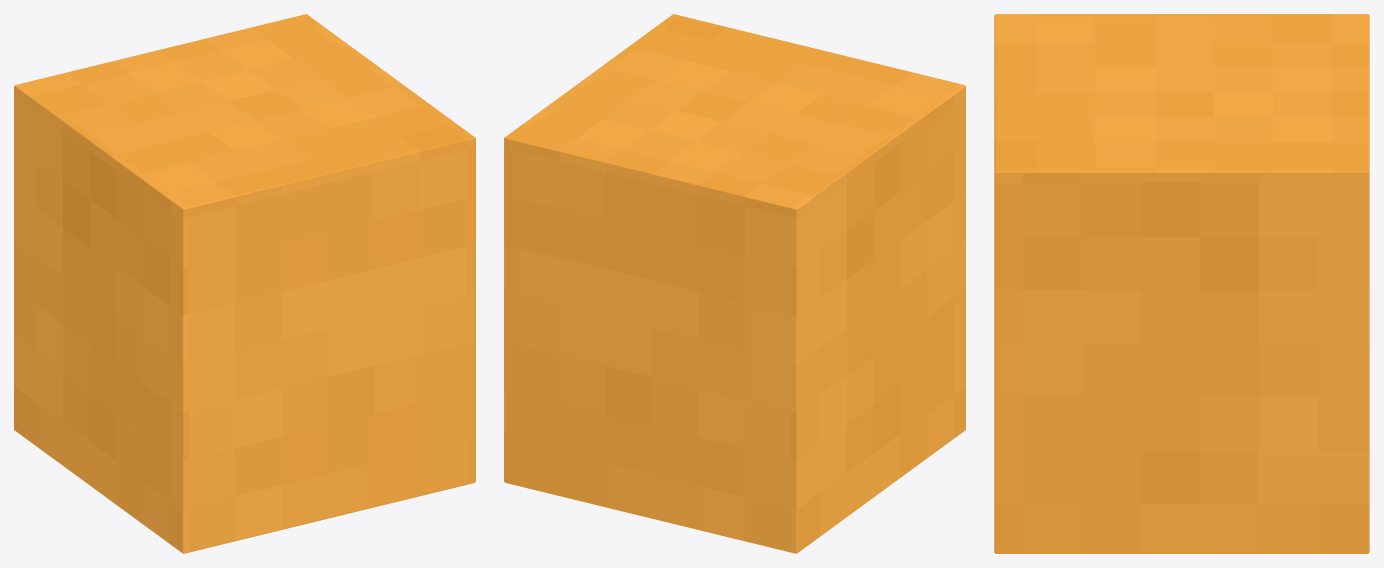
Rendered from Amber-core.glb.
3 renders of one model, left to right at view 1: azimuth 30°, elevation 25°; view 2: azimuth 150°, elevation 25°; view 3: azimuth 270°, elevation 25°, orthographic. The views are drawn at different scales.
Visible parts, largest first — view 1: Amber-core; view 2: Amber-core; view 3: Amber-core.
Boxes of the visible parts, left/top/right/bottom form: Amber-core: left=14, top=14, right=475, bottom=553; Amber-core: left=504, top=14, right=965, bottom=553; Amber-core: left=994, top=14, right=1369, bottom=553.
Bounding box in the file's own units: 0.248 × 0.279 × 0.248.
Materials: 1 (1 with a texture image).
